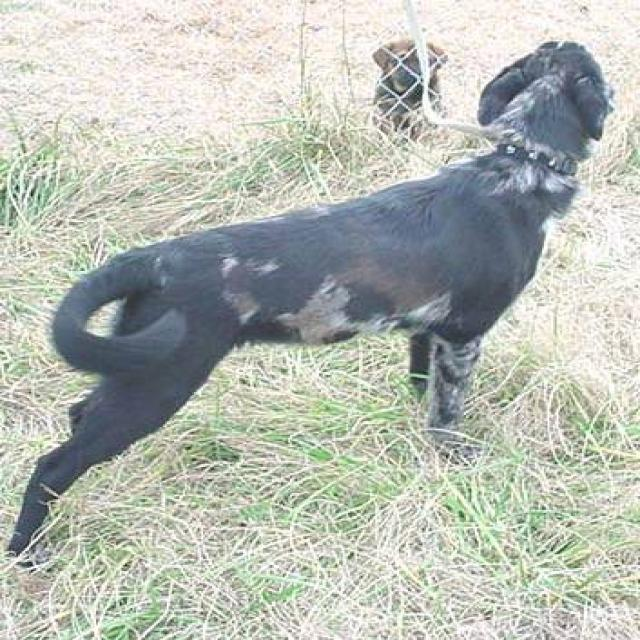dog: (3, 37, 614, 570)
